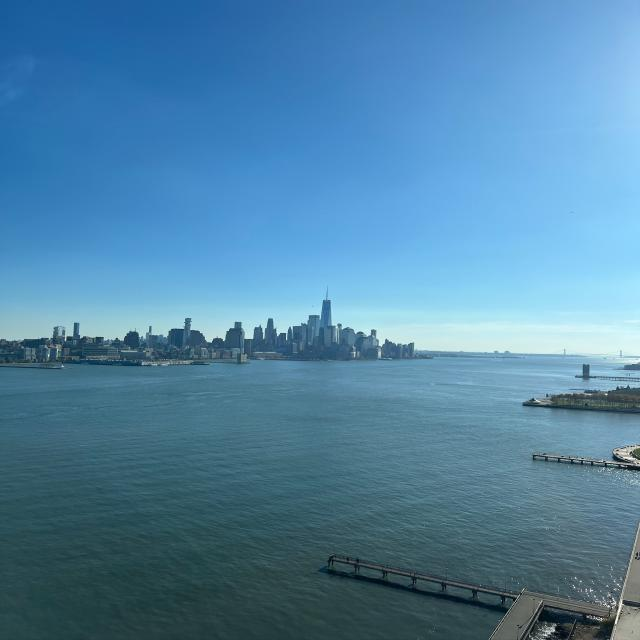WTC: (319, 285, 331, 328)
